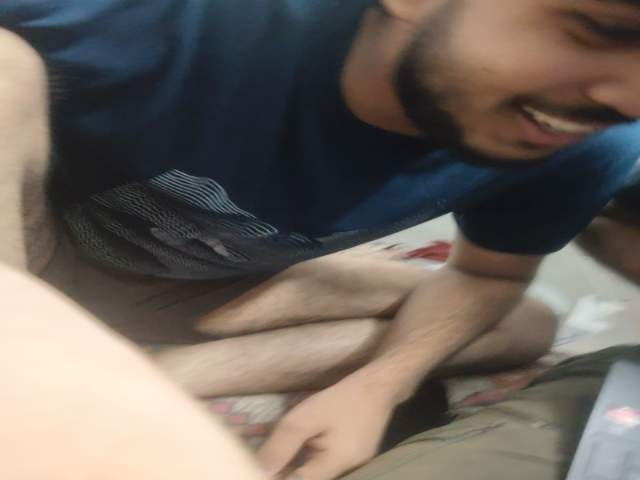pothole: (341, 311, 441, 391)
